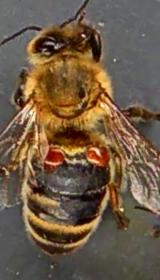varroa_mite: (78, 138, 117, 169), (37, 142, 70, 174)
